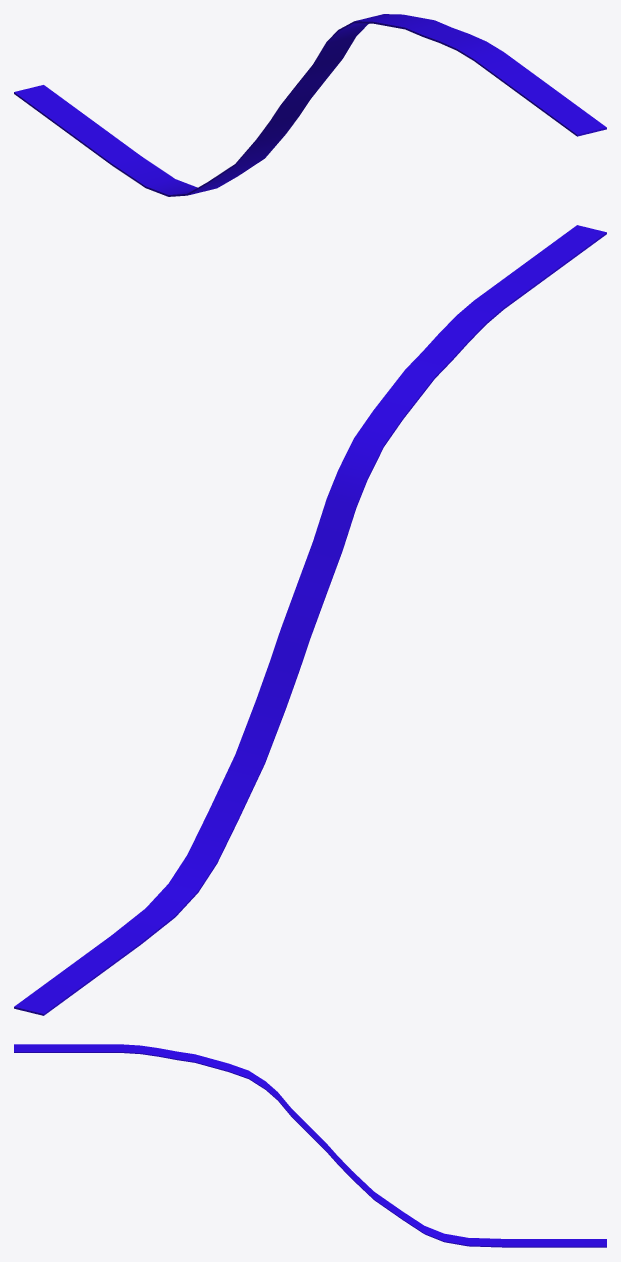
Rendered from ROAD.FBX.
3 views of the same model, one above another, from view 1: azimuth 30°, elevation 25°; view 2: azimuth 150°, elevation 25°; view 3: azimuth 270°, elevation 25° (orthographic). The views are drawn at different scales.
Parts seen in each view (by area): view 1: Box001; view 2: Box001; view 3: Box001.
Boxes of the visible parts, box(x1,y1,x2,y2) form: Box001: box(14, 14, 606, 196); Box001: box(14, 225, 606, 1015); Box001: box(14, 1044, 606, 1247).
Size of the model in its own units: 50 by 595 by 1637.
